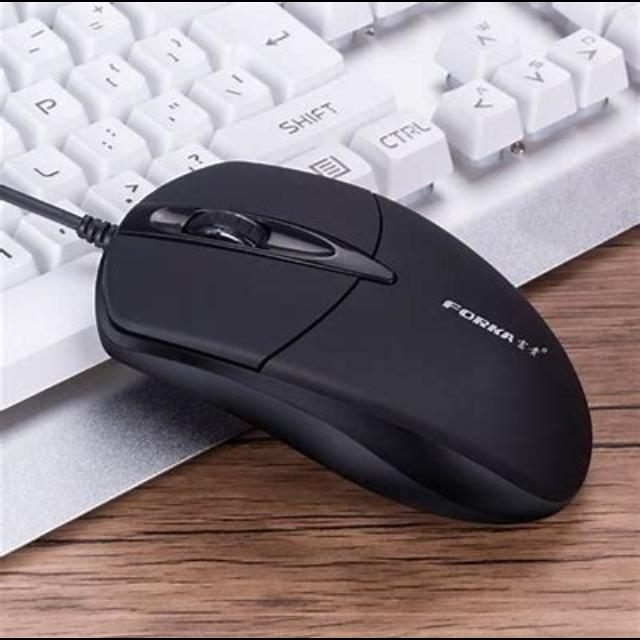Computer-Mouse: (94, 162, 594, 528)
